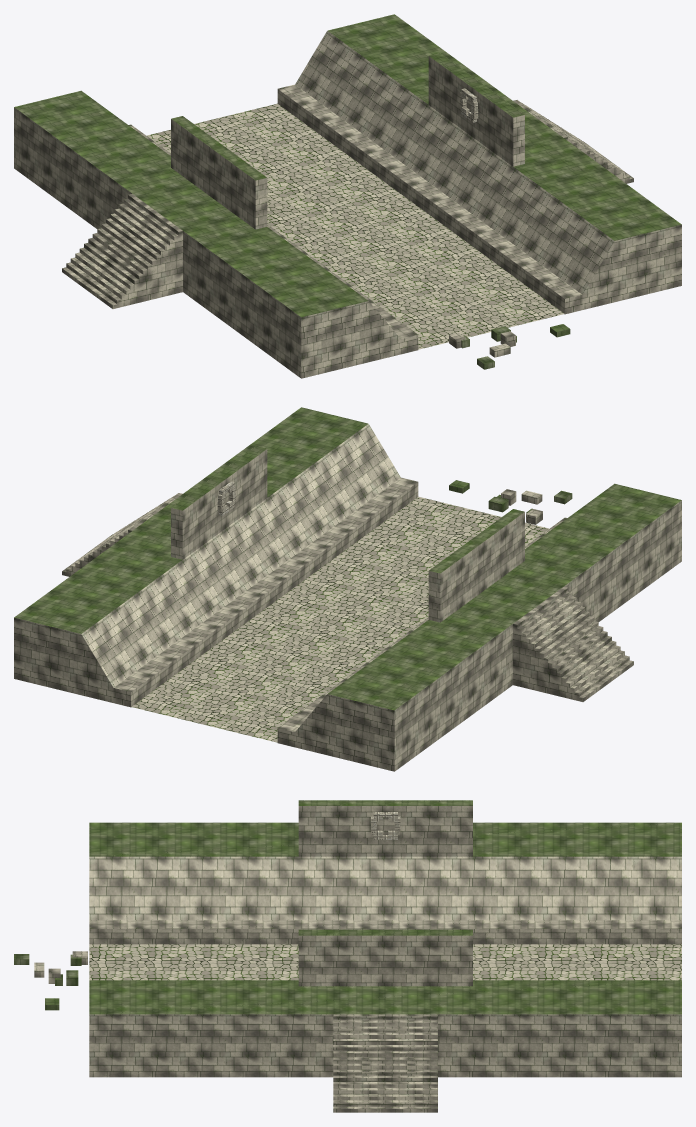
Rendered from ruin-ballcourt.zfix-v11b.lod0.glb.
The picture shows the model from 3 angles, top to bottom: view 1: azimuth 30°, elevation 25°; view 2: azimuth 150°, elevation 25°; view 3: azimuth 270°, elevation 25°; orthographic projection. The views are drawn at different scales.
Parts seen in each view (by area): view 1: ruin-ballcourt; view 2: ruin-ballcourt; view 3: ruin-ballcourt.
Part boxes in pixels (left/top/right/bottom): ruin-ballcourt: left=14, top=14, right=681, bottom=378; ruin-ballcourt: left=14, top=407, right=681, bottom=771; ruin-ballcourt: left=14, top=800, right=681, bottom=1112.
Bounding box in the file's own units: 35.6 × 7.2 × 38.33.
Materials: 4 (4 with a texture image).
